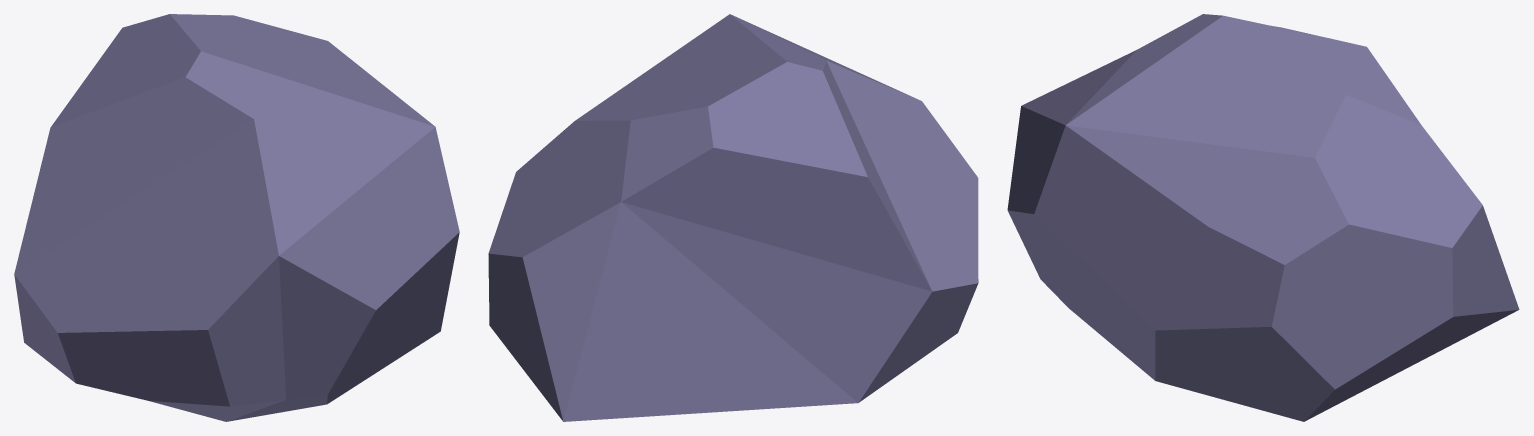
File: Rock_small_v3.glb
3 views of the same model, side by side, from view 1: azimuth 30°, elevation 25°; view 2: azimuth 150°, elevation 25°; view 3: azimuth 270°, elevation 25° (orthographic). The views are drawn at different scales.
Visible parts, largest first — view 1: Rock-col.002; view 2: Rock-col.002; view 3: Rock-col.002.
Boxes of the visible parts, box(x1,y1,x2,y2) form: Rock-col.002: box(14, 14, 459, 421); Rock-col.002: box(488, 14, 978, 421); Rock-col.002: box(1007, 14, 1519, 421).
Size of the model in its own units: 1.19 by 0.8793 by 1.36.
